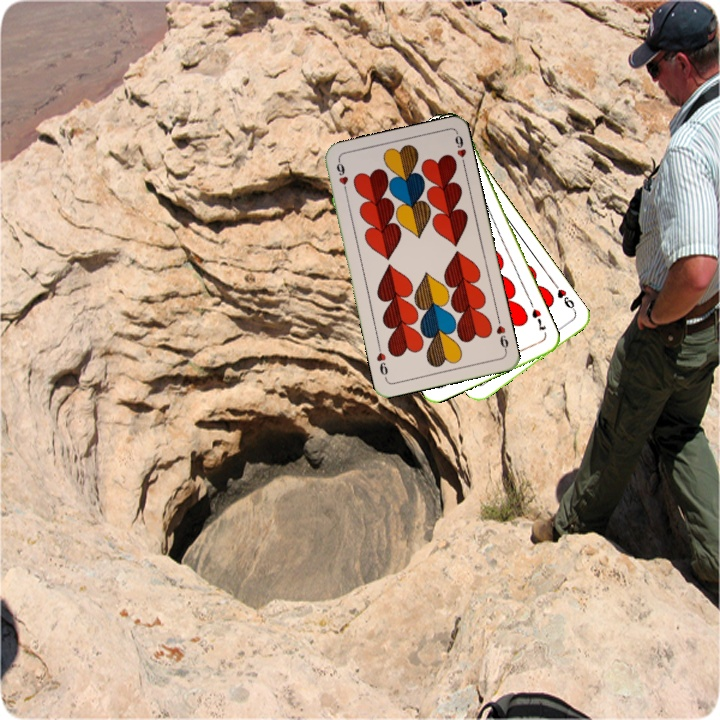H7: (528, 305, 548, 333)
H9: (553, 285, 579, 315), (492, 314, 511, 355), (332, 157, 351, 197)
